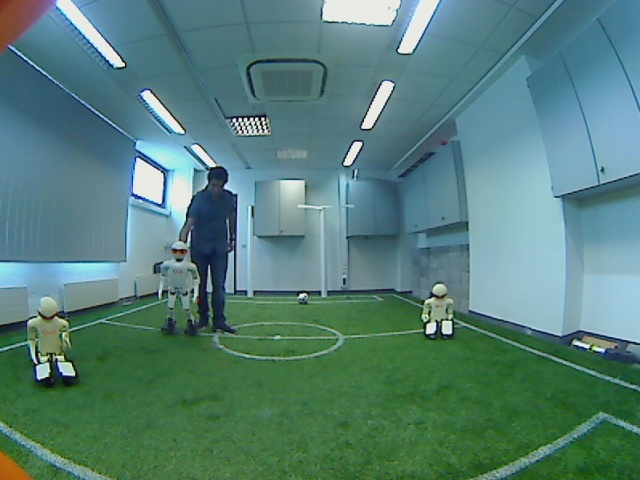ball: (293, 287, 313, 308)
robot: (19, 293, 84, 389), (153, 237, 208, 339), (416, 281, 462, 343)
